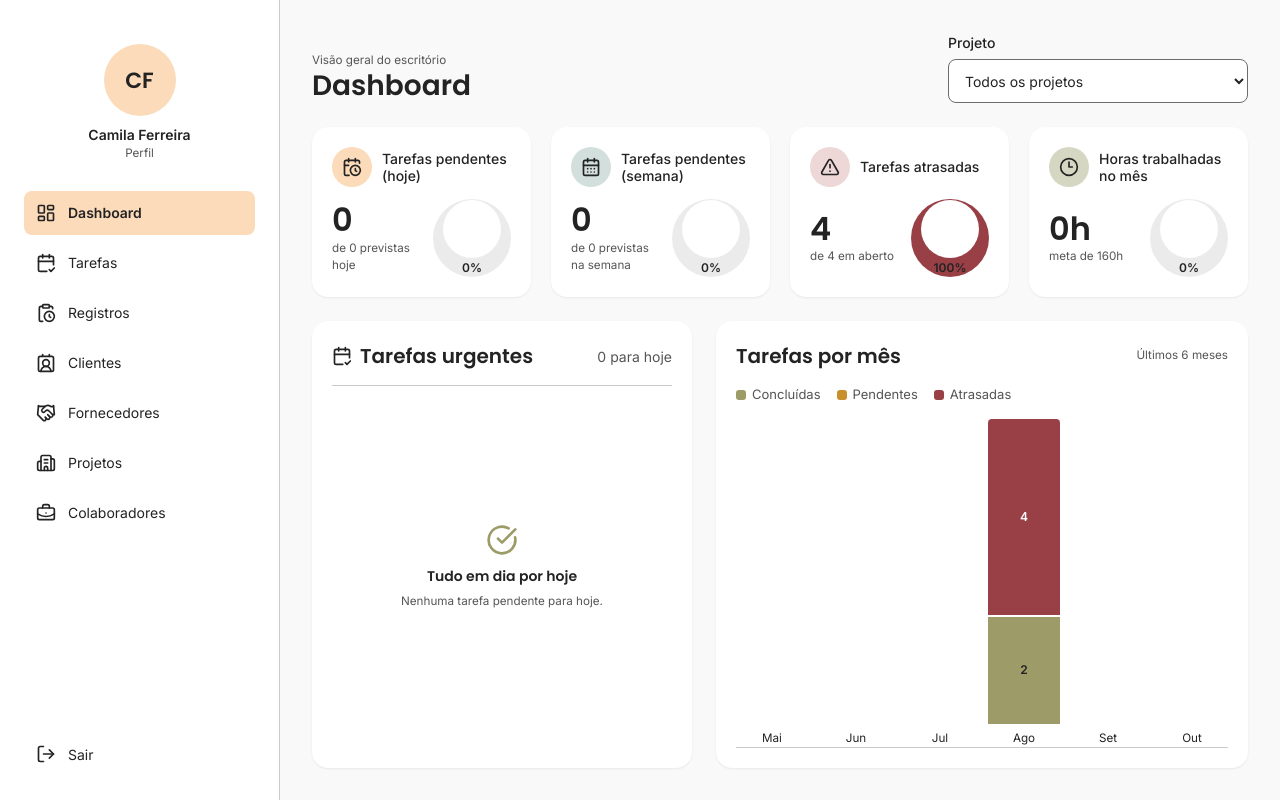
Test case: Dashboard › aplica o filtro de projeto às informações
Expected: the text "de 4 em aberto" is shown, x1=810 y1=248 x2=894 y2=266
Select "COM-011 · Ateliê Aurora" in the dropdown labelled "Projeto" at (1098, 81), box x1=948 y1=59 x2=1248 y2=103
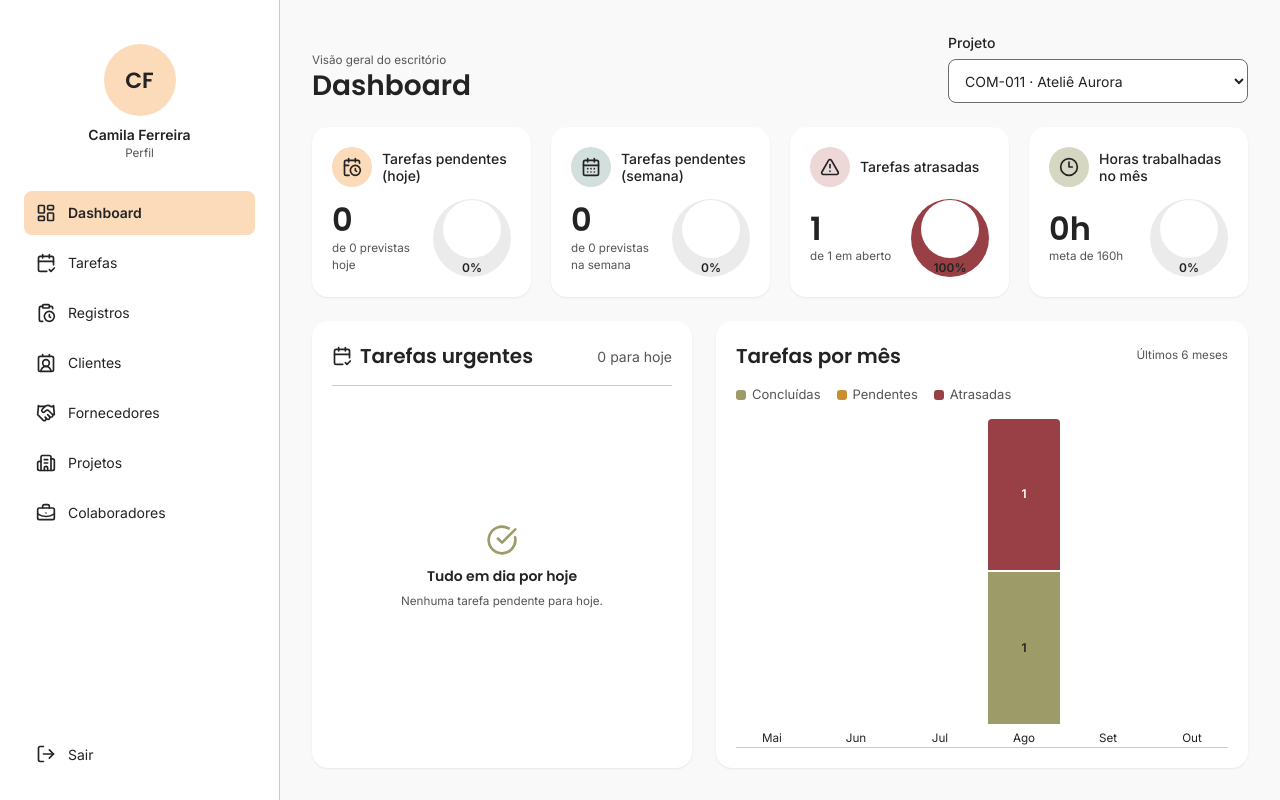
Expected: the text "de 1 em aberto" is shown, x1=810 y1=248 x2=891 y2=266
